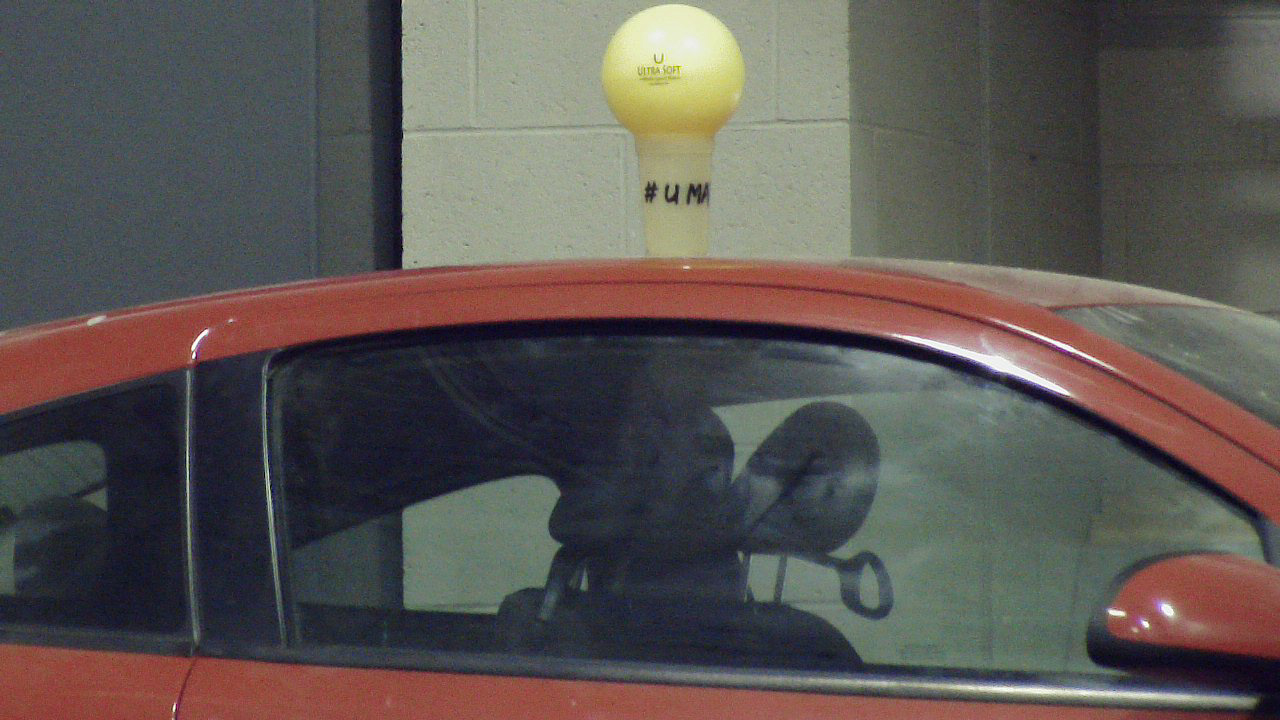yellowBall: (603, 7, 754, 147)
